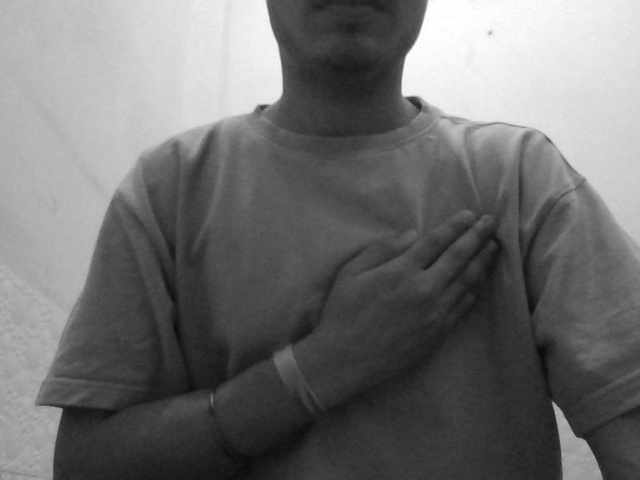Sorry: (284, 194, 539, 412)
